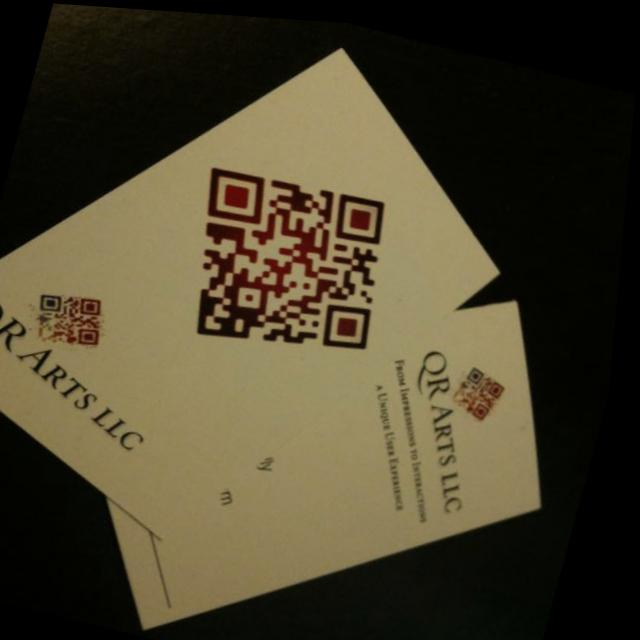qrcode: (173, 156, 410, 370), (33, 284, 115, 355), (453, 356, 515, 418)
